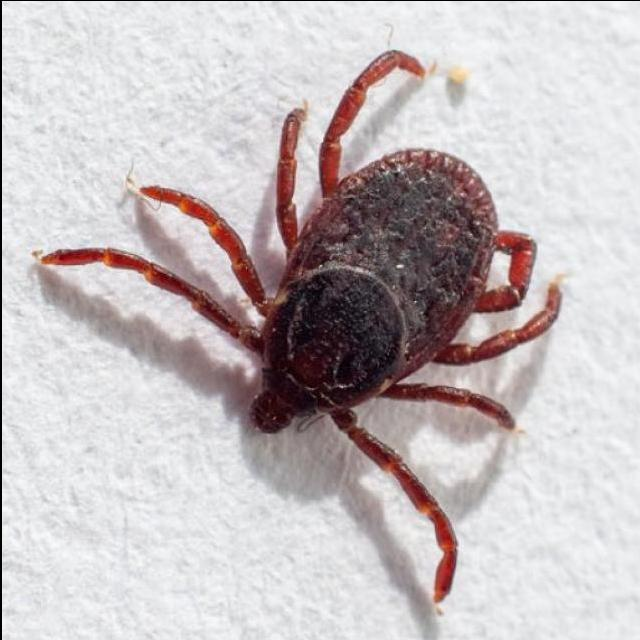Rhipicephalus Sanguineus-F: (29, 48, 559, 611)
